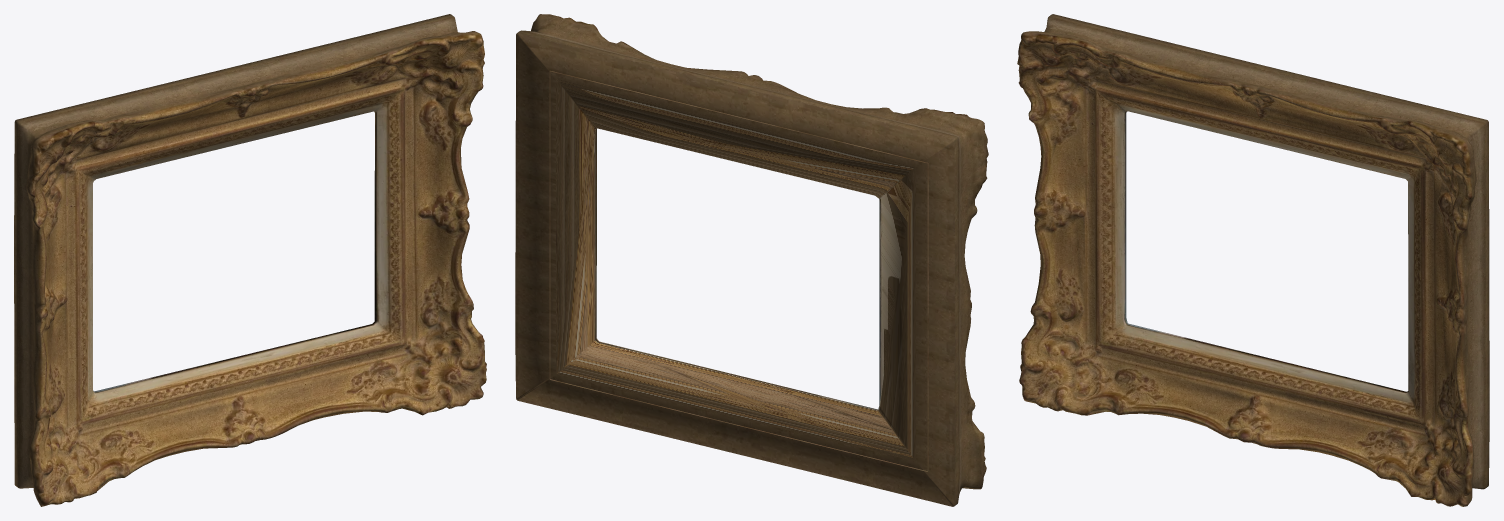
File: third-painting-frame.glb
The picture shows the model from 3 angles, left to right: view 1: azimuth 30°, elevation 25°; view 2: azimuth 150°, elevation 25°; view 3: azimuth 330°, elevation 25°; orthographic projection.
Parts seen in each view (by area): view 1: fancy_picture_frame_02; view 2: fancy_picture_frame_02; view 3: fancy_picture_frame_02.
Boxes of the visible parts, <box> form: fancy_picture_frame_02: <box>14,14,486,506</box>; fancy_picture_frame_02: <box>515,14,988,506</box>; fancy_picture_frame_02: <box>1017,14,1489,506</box>.
Bounding box in the file's own units: 1.42 × 1.12 × 0.164.
1 material, 1 textured.
